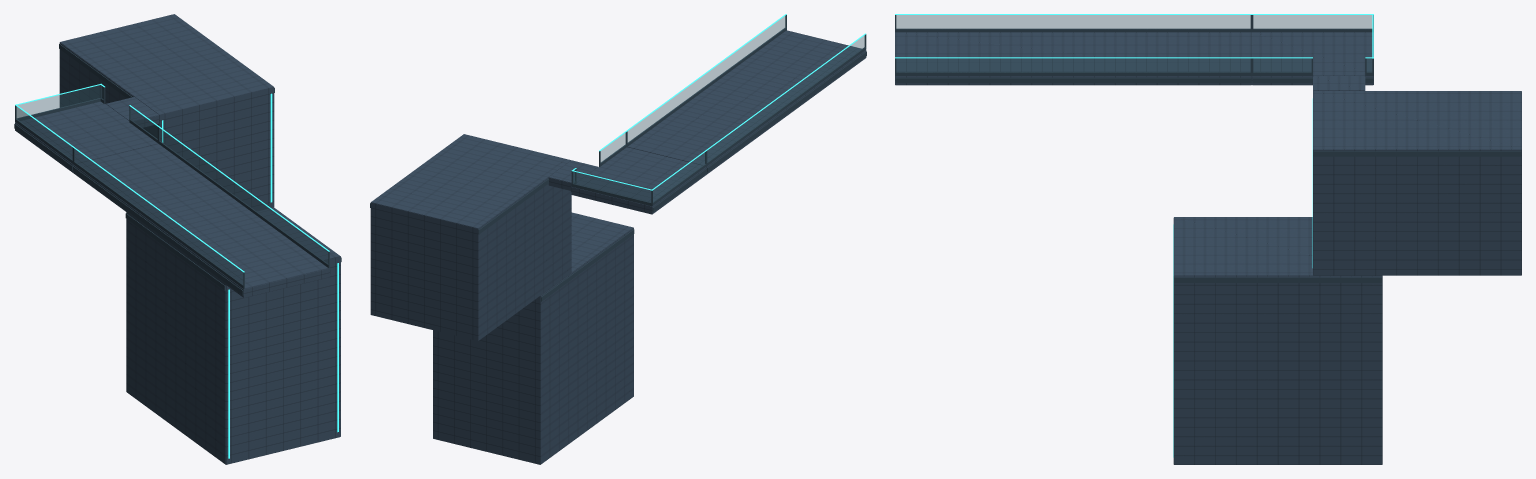
Rendered from v02-detailed-04-04.glb.
3 renders of one model, left to right at view 1: azimuth 30°, elevation 25°; view 2: azimuth 150°, elevation 25°; view 3: azimuth 270°, elevation 25°, orthographic. The views are drawn at different scales.
Visible parts, largest first — view 1: v02-detailed-04-04; view 2: v02-detailed-04-04; view 3: v02-detailed-04-04.
Part boxes in pixels (x1,y1,x2,y2): v02-detailed-04-04: (14, 14, 341, 464); v02-detailed-04-04: (370, 14, 866, 464); v02-detailed-04-04: (895, 14, 1521, 464).
Size of the model in its own units: 16.1 by 21.13 by 36.
Materials: 5 (1 with a texture image).
